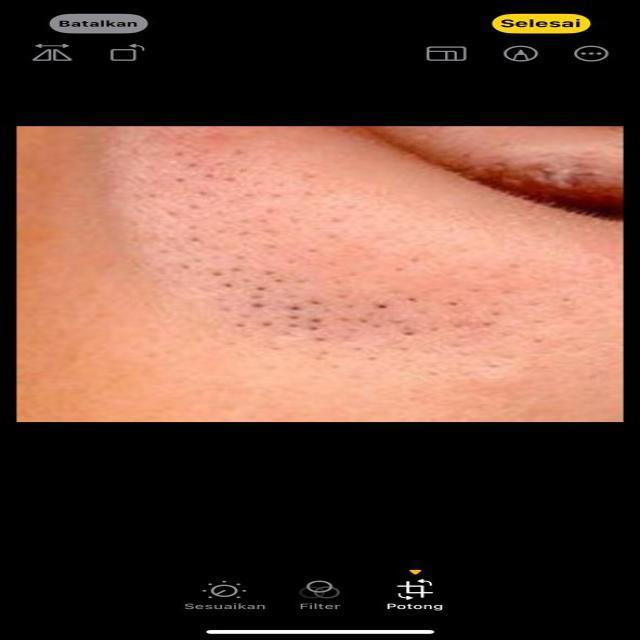blackhead: (109, 142, 560, 362)
